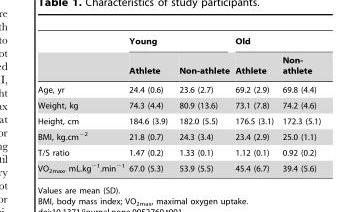table: (37, 36, 320, 173)
table column: (37, 36, 126, 173), (172, 36, 231, 173), (126, 36, 172, 173), (231, 36, 277, 173), (277, 36, 320, 173)
table column header: (37, 36, 320, 80)
table row: (37, 50, 320, 80), (37, 80, 320, 97), (37, 127, 320, 144), (37, 97, 320, 113), (37, 144, 320, 159), (37, 36, 320, 50), (37, 113, 320, 127), (37, 159, 320, 173)
table spanning cell: (126, 36, 231, 50), (231, 36, 320, 50)
